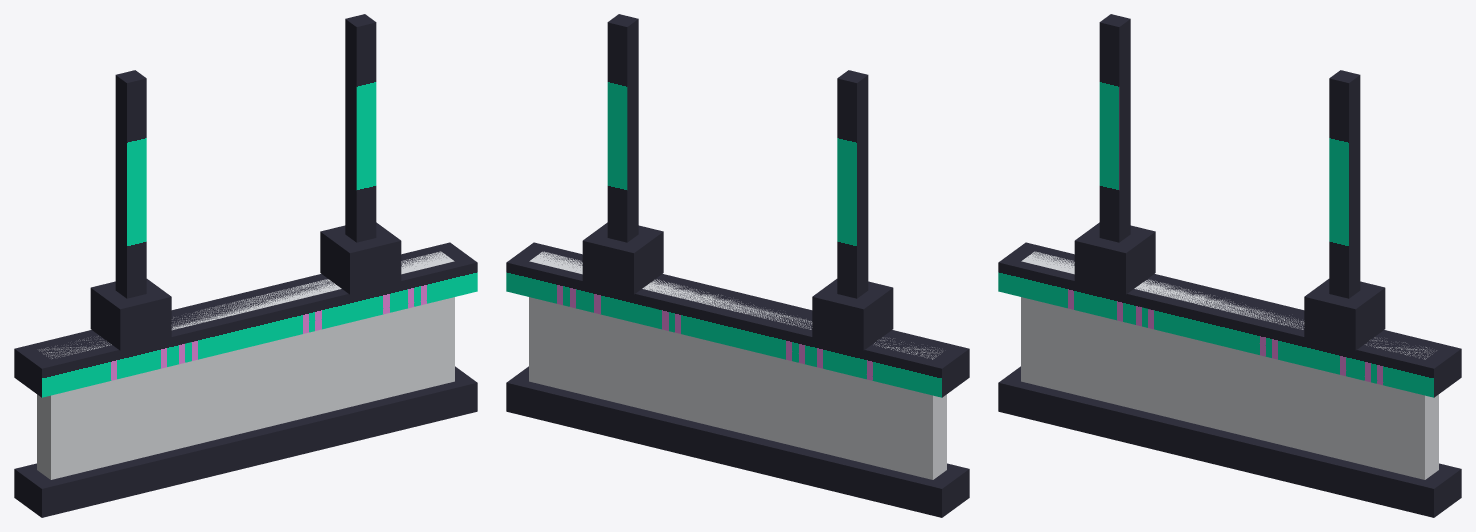
Rendered from nav_hanger.glb.
3 views of the same model, side by side, from view 1: azimuth 30°, elevation 25°; view 2: azimuth 150°, elevation 25°; view 3: azimuth 330°, elevation 25° (orthographic).
Parts seen in each view (by area): view 1: nav_hanger; view 2: nav_hanger; view 3: nav_hanger.
Part boxes in pixels (x1,y1,x2,y2): nav_hanger: (14,14,477,517); nav_hanger: (506,14,969,517); nav_hanger: (998,14,1461,517).
Size of the model in its own units: 1.1 by 0.98 by 0.13.
Materials: 7 (6 with a texture image).
